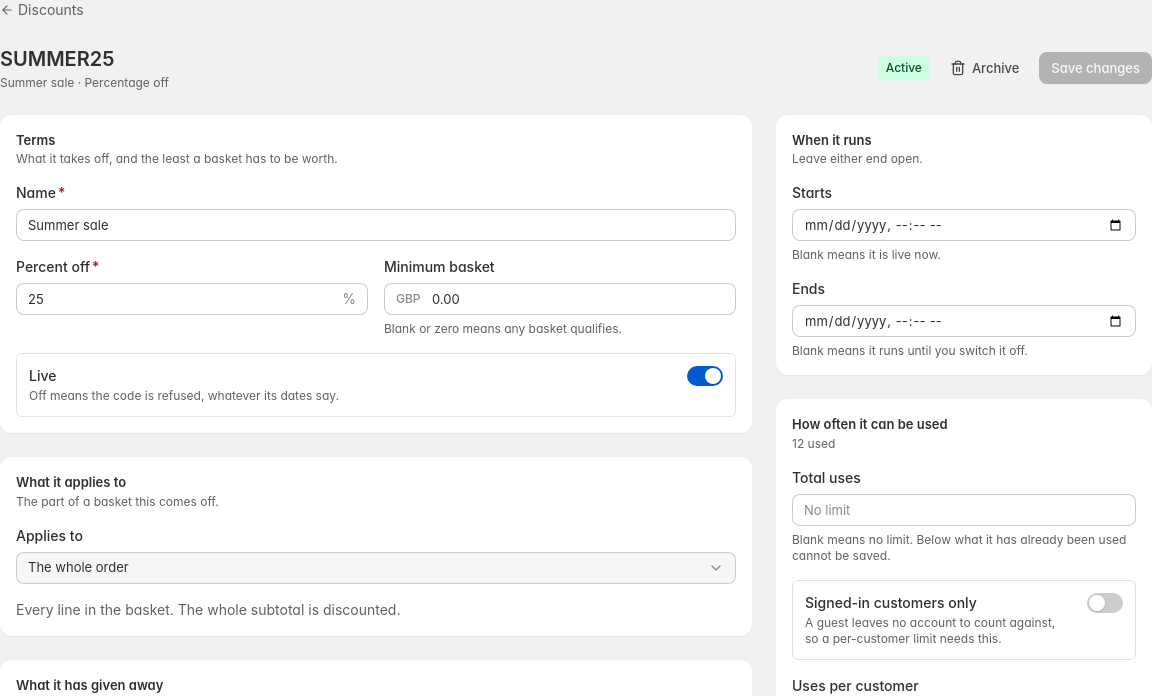
Test: DiscountDetailPage › says what archiving costs before doing it
The image size is (1152, 696).
expect the heading "SUMMER25" is shown: met, box [0,45,114,73]
Click the button "Archive": (985, 68) [938,52,1031,84]
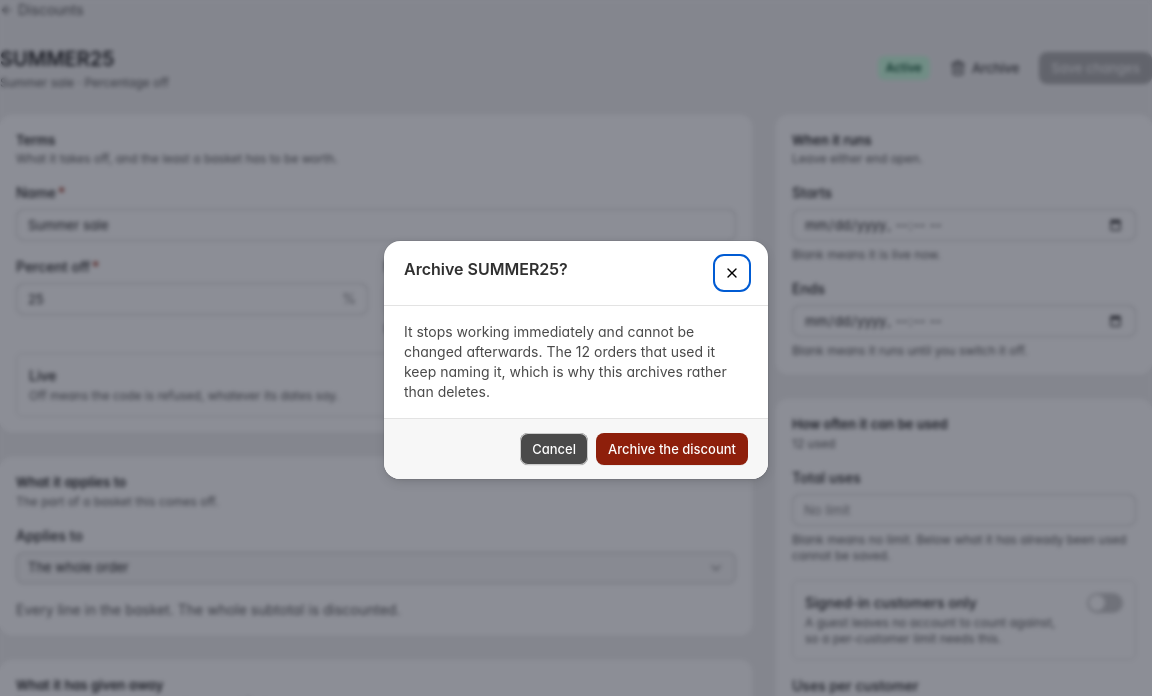
expect the heading "Archive SUMMER25?" is shown: met, box [404,257,568,281]
expect the text "12 orders that used it keep naming it" is shown: met, box [404,343,715,380]
